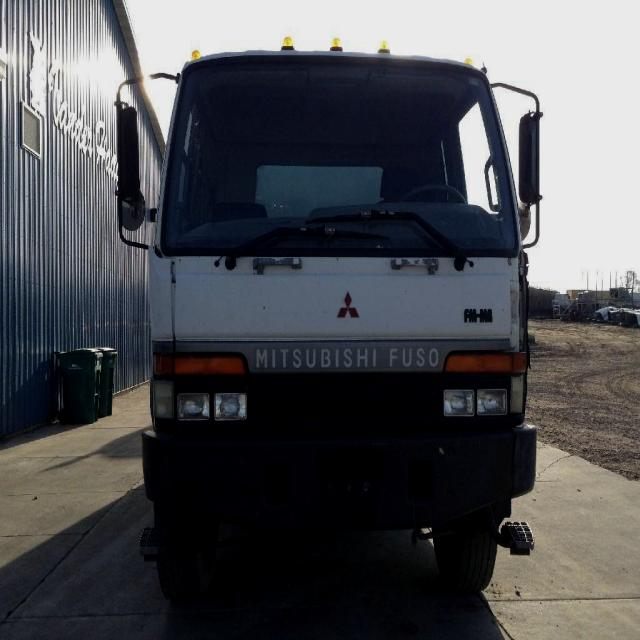truck: (116, 40, 543, 607)
